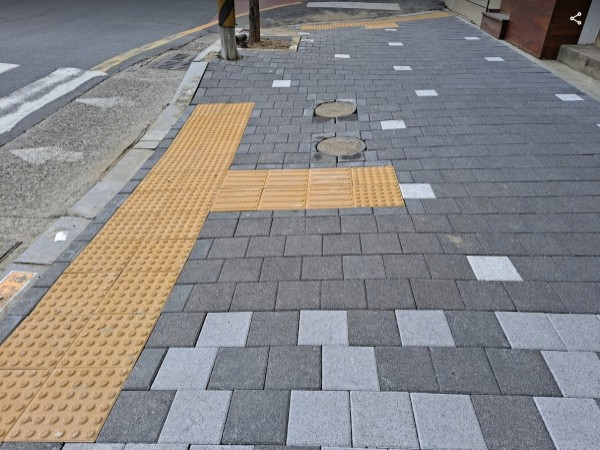guide_blocks: (4, 317, 152, 437), (113, 164, 403, 212), (62, 214, 207, 279), (25, 277, 177, 313), (180, 101, 251, 139), (152, 140, 237, 168)
